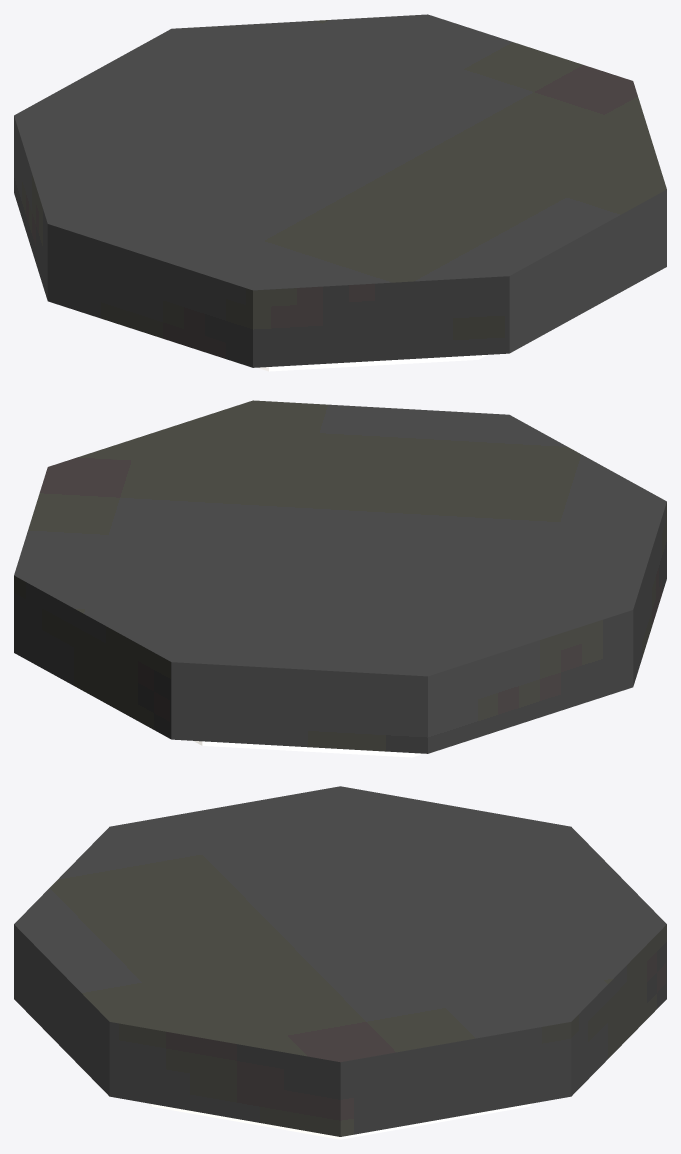
File: ceilingLight.glb
3 views of the same model, one above another, from view 1: azimuth 30°, elevation 25°; view 2: azimuth 150°, elevation 25°; view 3: azimuth 270°, elevation 25° (orthographic). The views are drawn at different scales.
Visible parts, largest first — view 1: ceilingLight; view 2: ceilingLight; view 3: ceilingLight.
Boxes of the visible parts, left/top/right/bottom form: ceilingLight: left=14, top=14, right=666, bottom=371; ceilingLight: left=14, top=400, right=666, bottom=757; ceilingLight: left=14, top=786, right=666, bottom=1139.
Bounding box in the file's own units: 0.4772 × 0.1347 × 0.4772.
Materials: 1 (1 with a texture image).
